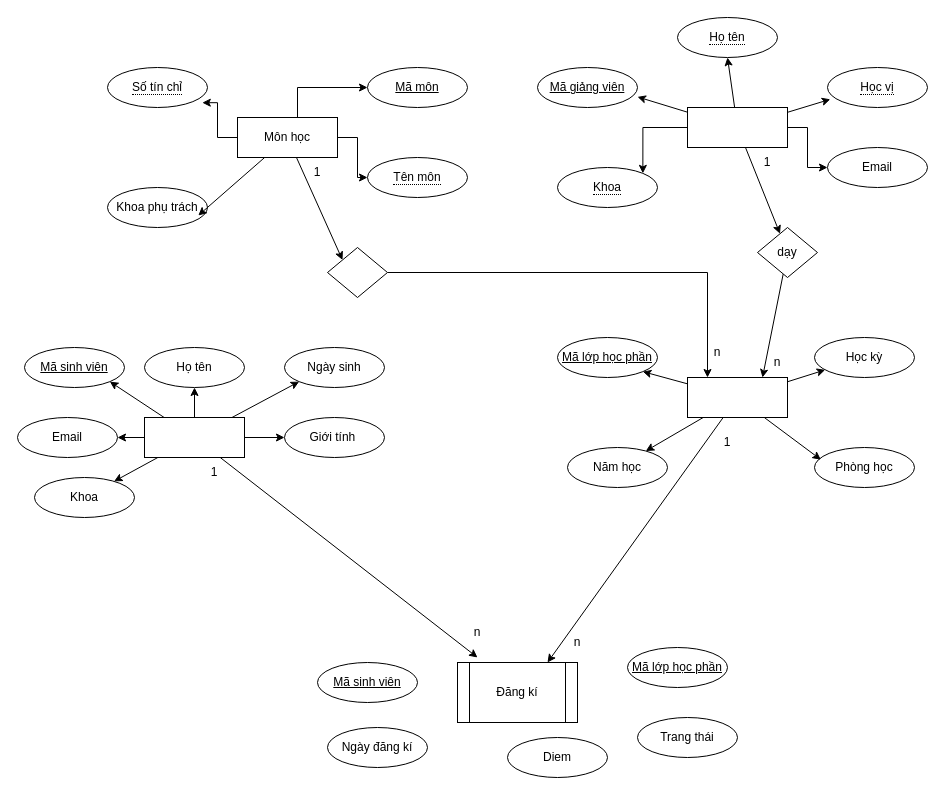
Image size: 945x795. Some labels were removed from this diagram. The shapes that lost their labels are listed below. From the top down, each one's centre as x and y in pixels, then its label:
At (737,127): "Giảng viên".
At (357,272): "có".
At (737,397): "Lớp học phần".
At (194,437): "Sinh viên".
